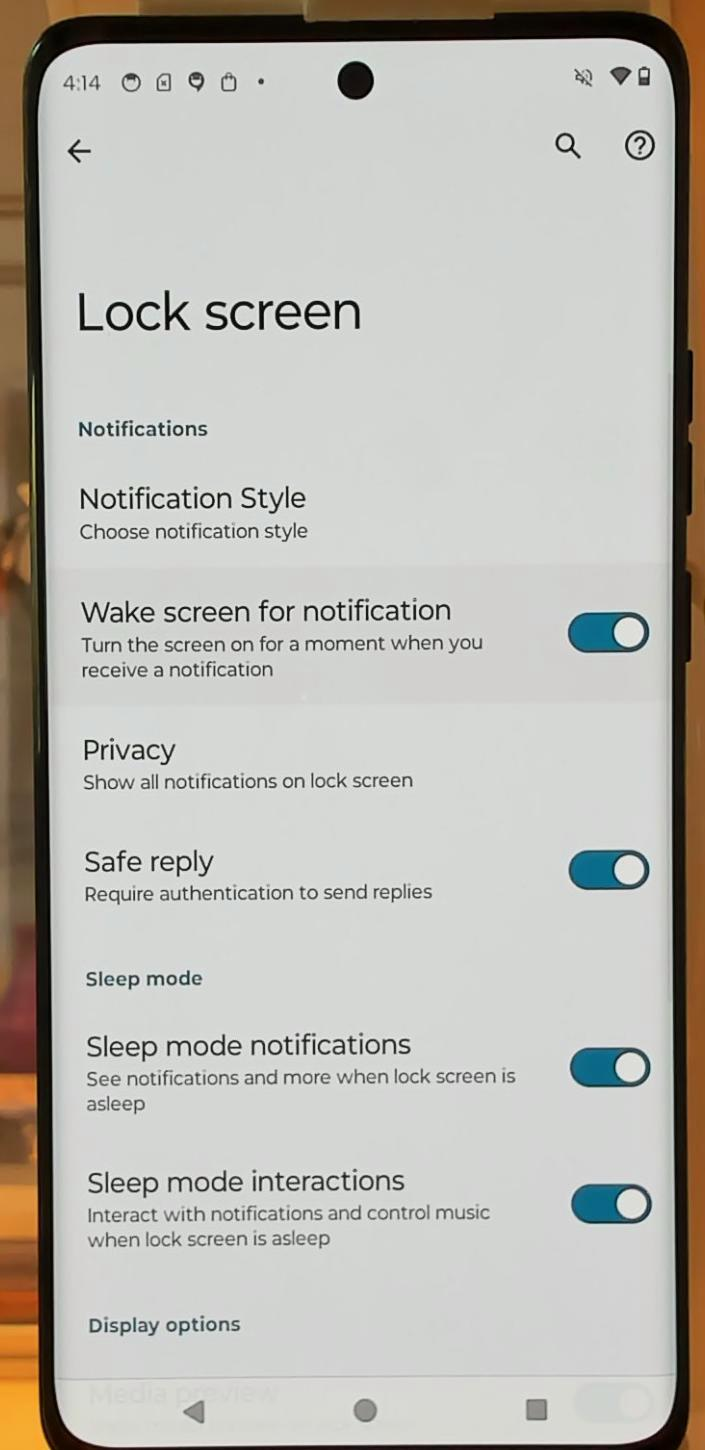Checkbox: (78, 1158, 657, 1261), (73, 585, 652, 686), (78, 1026, 653, 1119), (77, 834, 656, 922)
